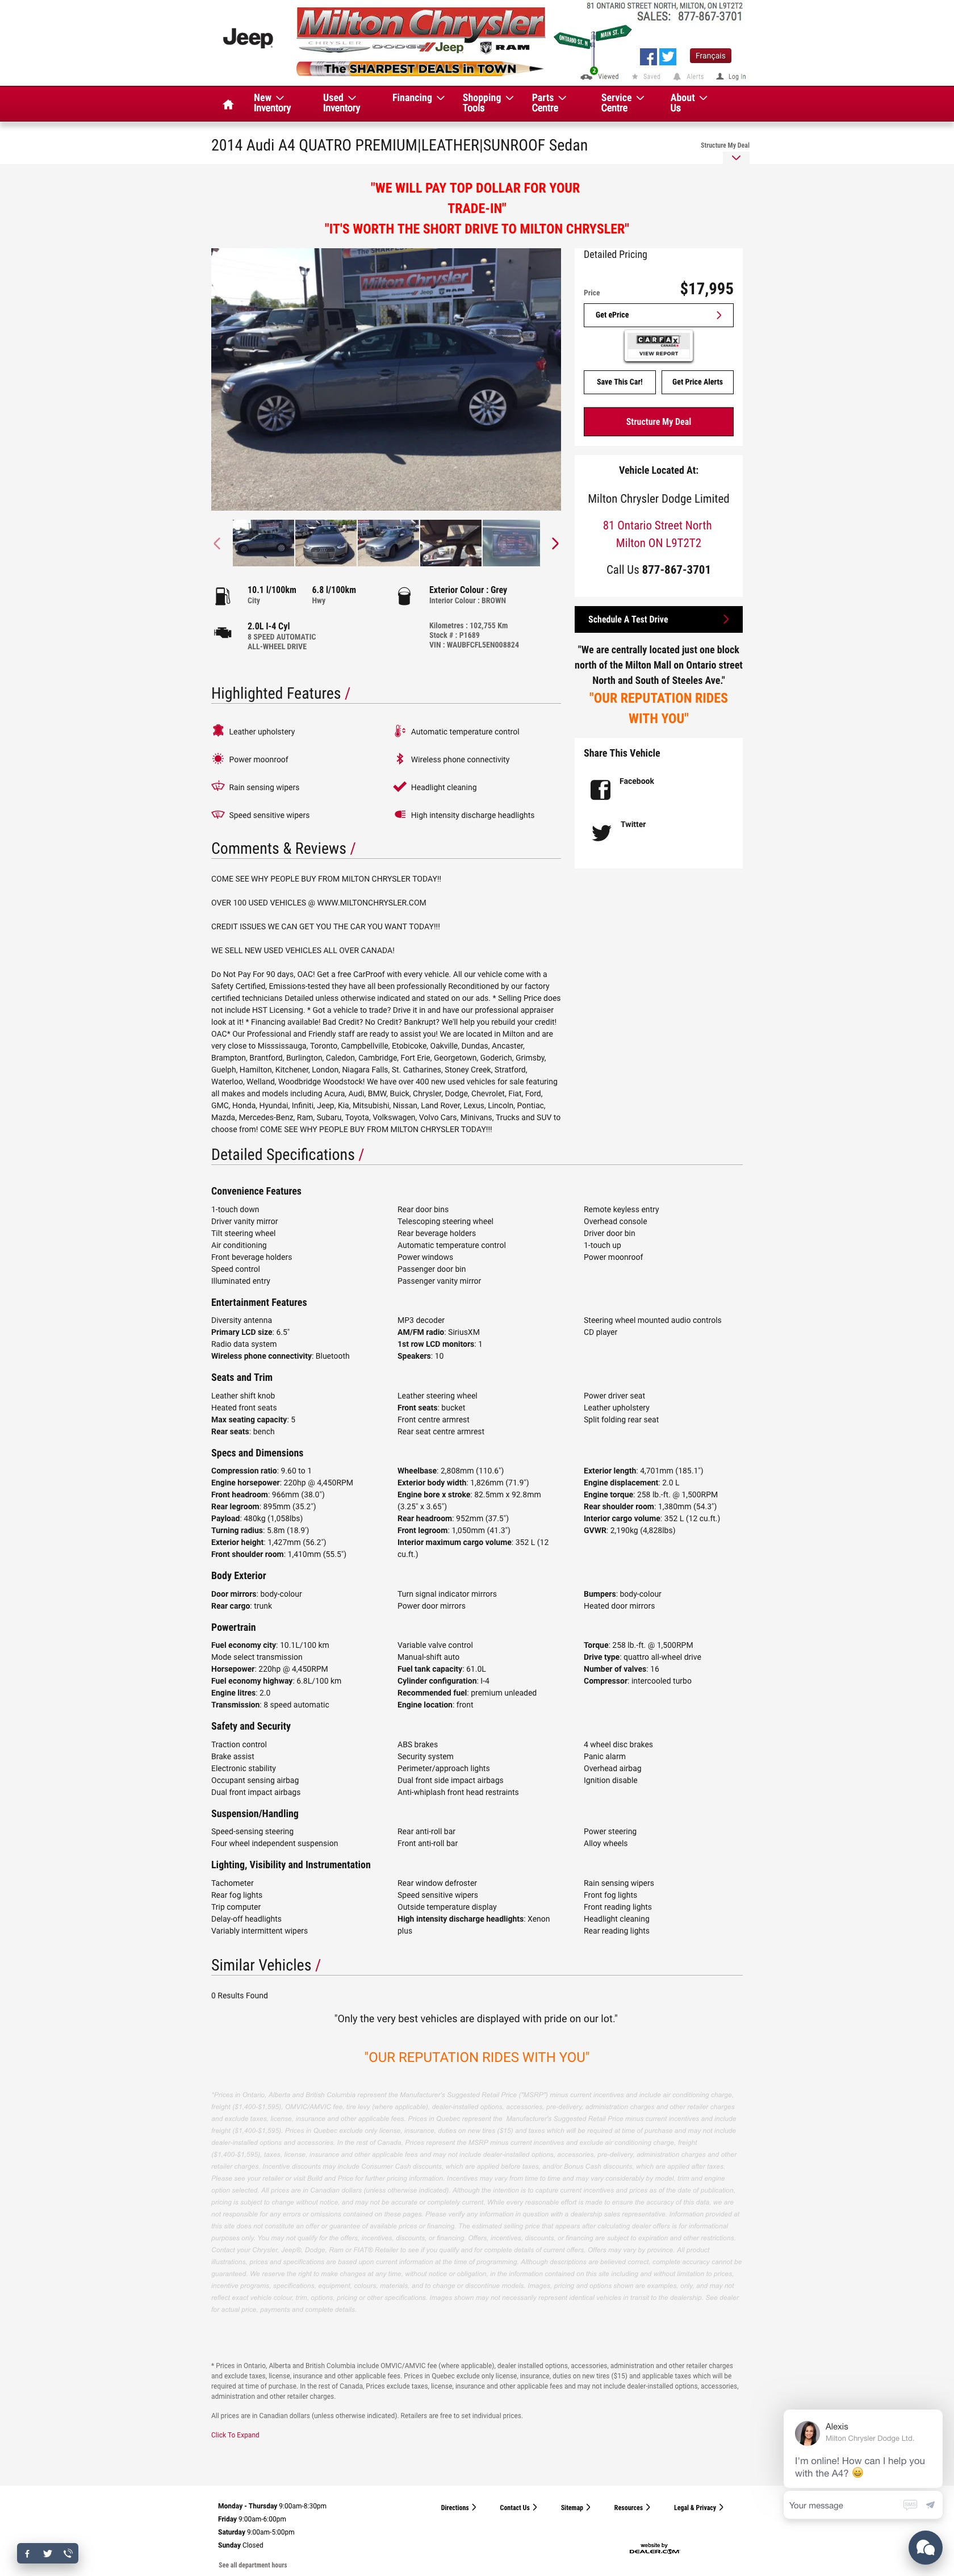car: (552, 537, 560, 550)
